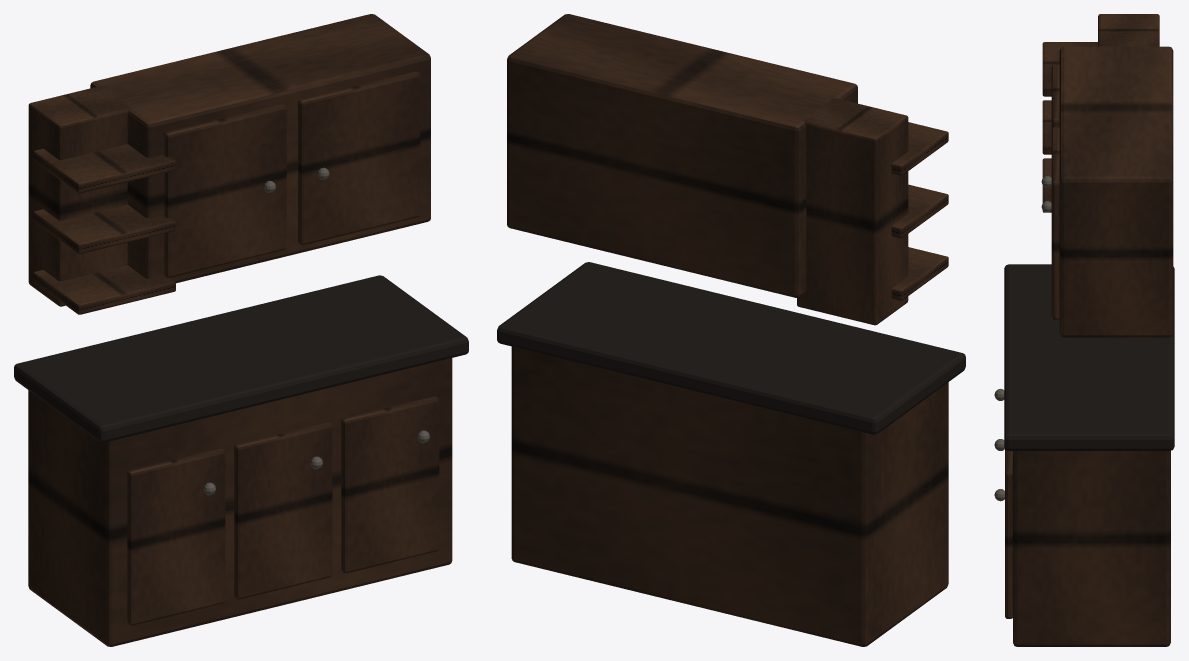
Rendered from dark-kitchen-cabinets.glb.
3 renders of one model, left to right at view 1: azimuth 30°, elevation 25°; view 2: azimuth 150°, elevation 25°; view 3: azimuth 270°, elevation 25°, orthographic. The views are drawn at different scales.
Visible parts, largest first — view 1: SM_lonely_house_kitchen_cabinets_DarkWood, SM_BaseCounter, SM_lonely_house_kitchen_cabinets_OxidizedMetal; view 2: SM_lonely_house_kitchen_cabinets_DarkWood, SM_BaseCounter; view 3: SM_lonely_house_kitchen_cabinets_DarkWood, SM_BaseCounter, SM_lonely_house_kitchen_cabinets_OxidizedMetal.
Boxes of the visible parts, x1=… form: SM_lonely_house_kitchen_cabinets_DarkWood: x1=28, y1=14, x2=452, y2=646; SM_BaseCounter: x1=14, y1=275, x2=468, y2=442; SM_lonely_house_kitchen_cabinets_OxidizedMetal: x1=203, y1=167, x2=429, y2=495; SM_lonely_house_kitchen_cabinets_DarkWood: x1=507, y1=14, x2=948, y2=646; SM_BaseCounter: x1=497, y1=262, x2=965, y2=434; SM_lonely_house_kitchen_cabinets_DarkWood: x1=1005, y1=14, x2=1173, y2=646; SM_BaseCounter: x1=1004, y1=264, x2=1174, y2=450; SM_lonely_house_kitchen_cabinets_OxidizedMetal: x1=994, y1=176, x2=1051, y2=501.
Bounding box in the file's own units: 1.67 × 2.11 × 0.73.
Materials: 3 (1 with a texture image).
